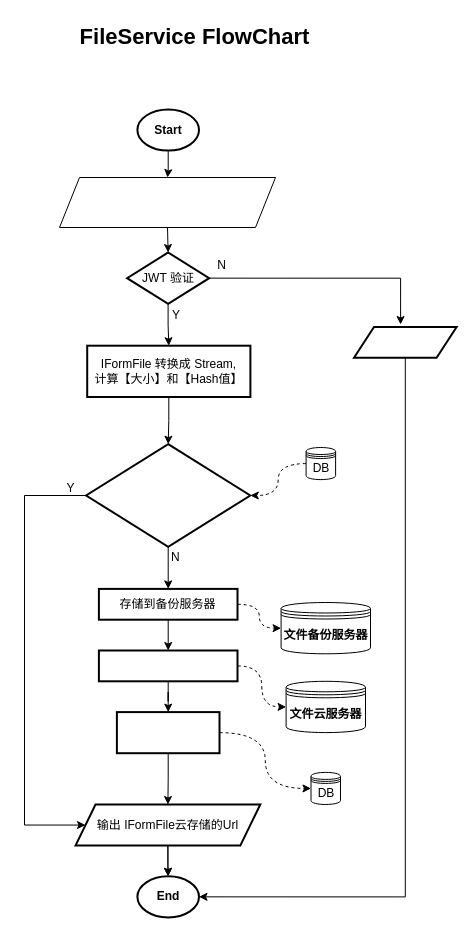
Some shapes in this 475 by 936 pixel diagram are drawn without their labels. The centre of each missing label's shape, as x and y in pixels:
"401 无权限" belongs at (404,342).
"Http 请求 api/Uploader/Upload （请求体 IFormFile 、JWT 权限认证）" belongs at (167,202).
"UploadedItem 插入 数据库" belongs at (167,732).
"存储到云服务器" belongs at (167,665).
"存在 【大小】和【Hash值】相同的 UploadedItem" belongs at (168,495).
